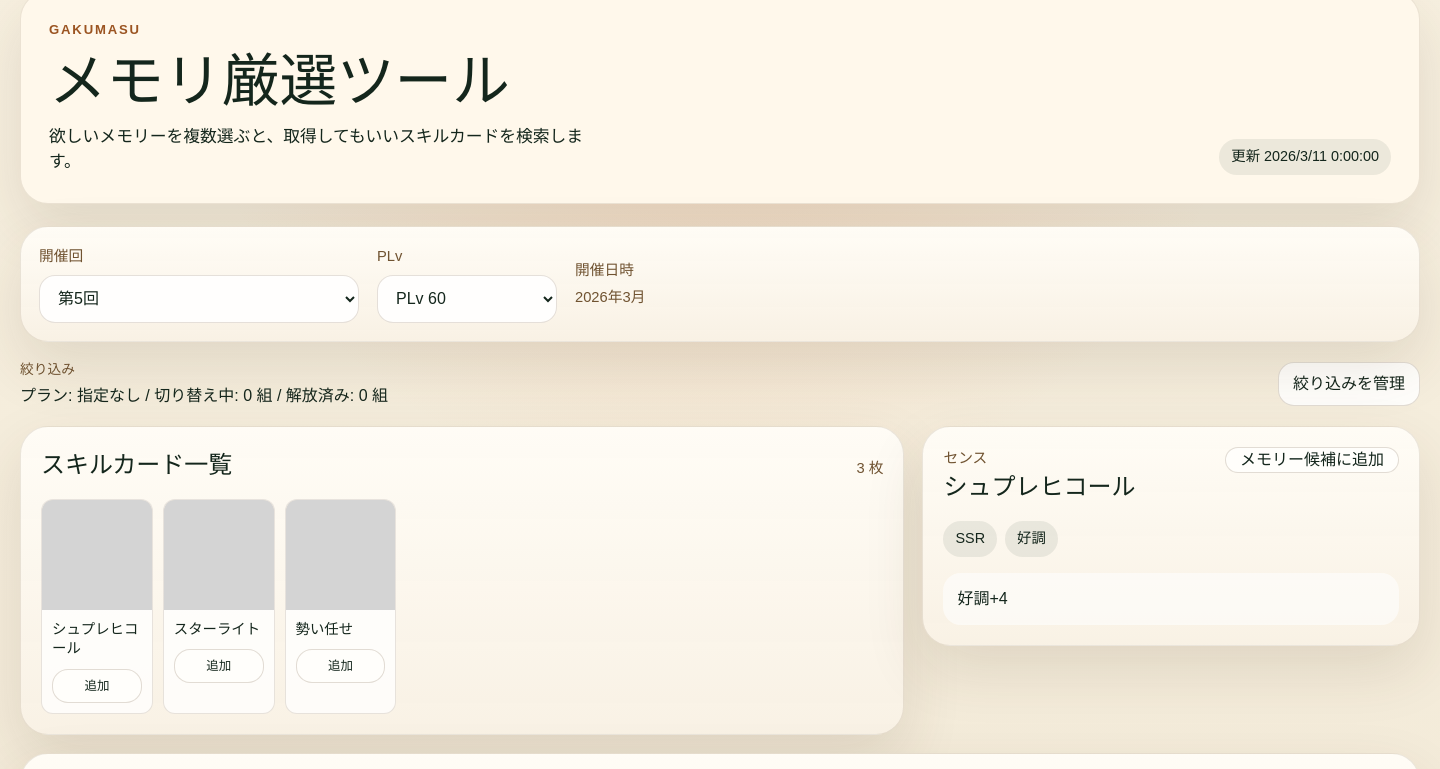
Test: AppShell › shows random-default R cards in the catalog and lets them move into the selected section
The image size is (1440, 769).
Expected: the element with class "catalog-panel" is shown, [20, 426, 904, 735]
What coordinates should you click on to do the following:
click the heading "スターライト"
I would click on:
 (219, 630)
Its box is [174, 620, 264, 639].
(page scrolled)
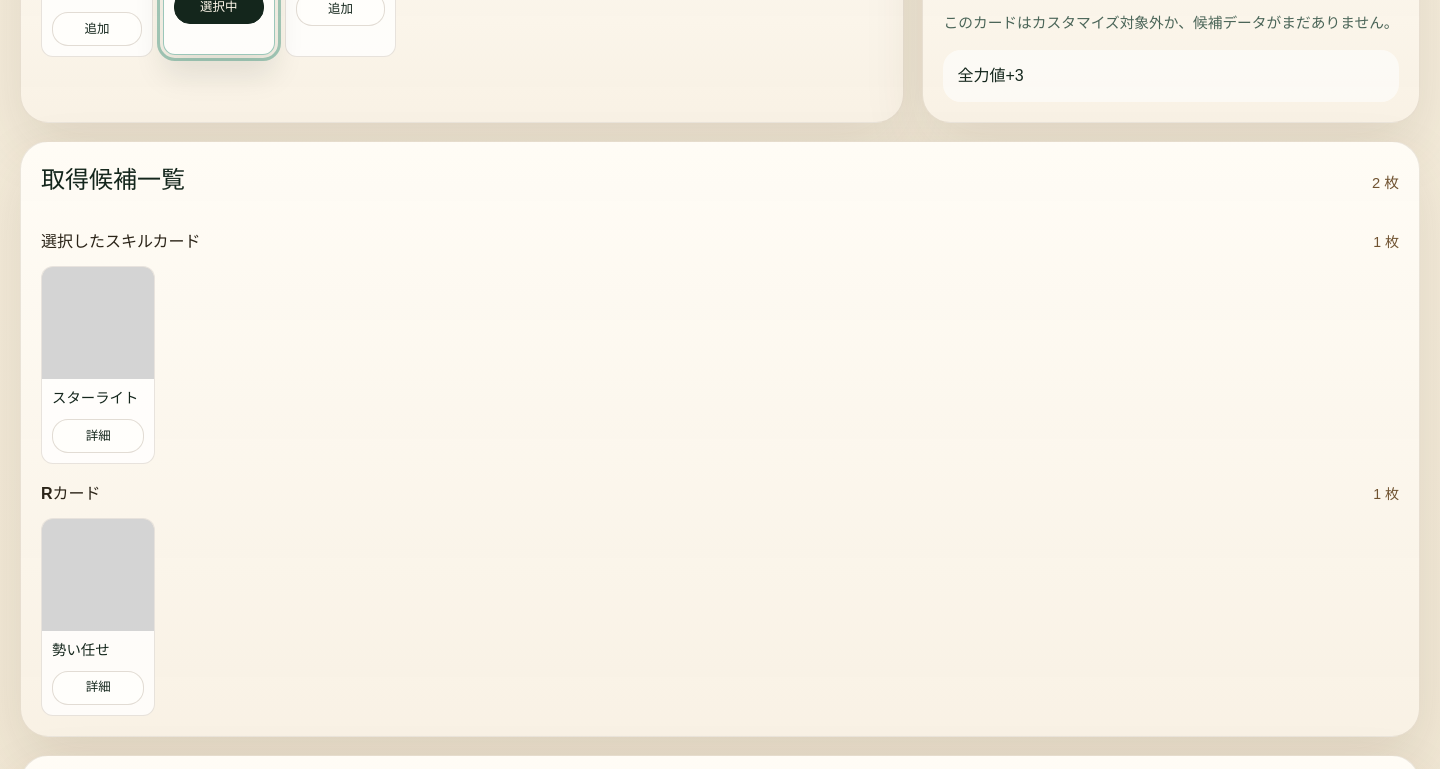
Expected: the heading "選択したスキルカード" is shown, [41, 230, 200, 254]
